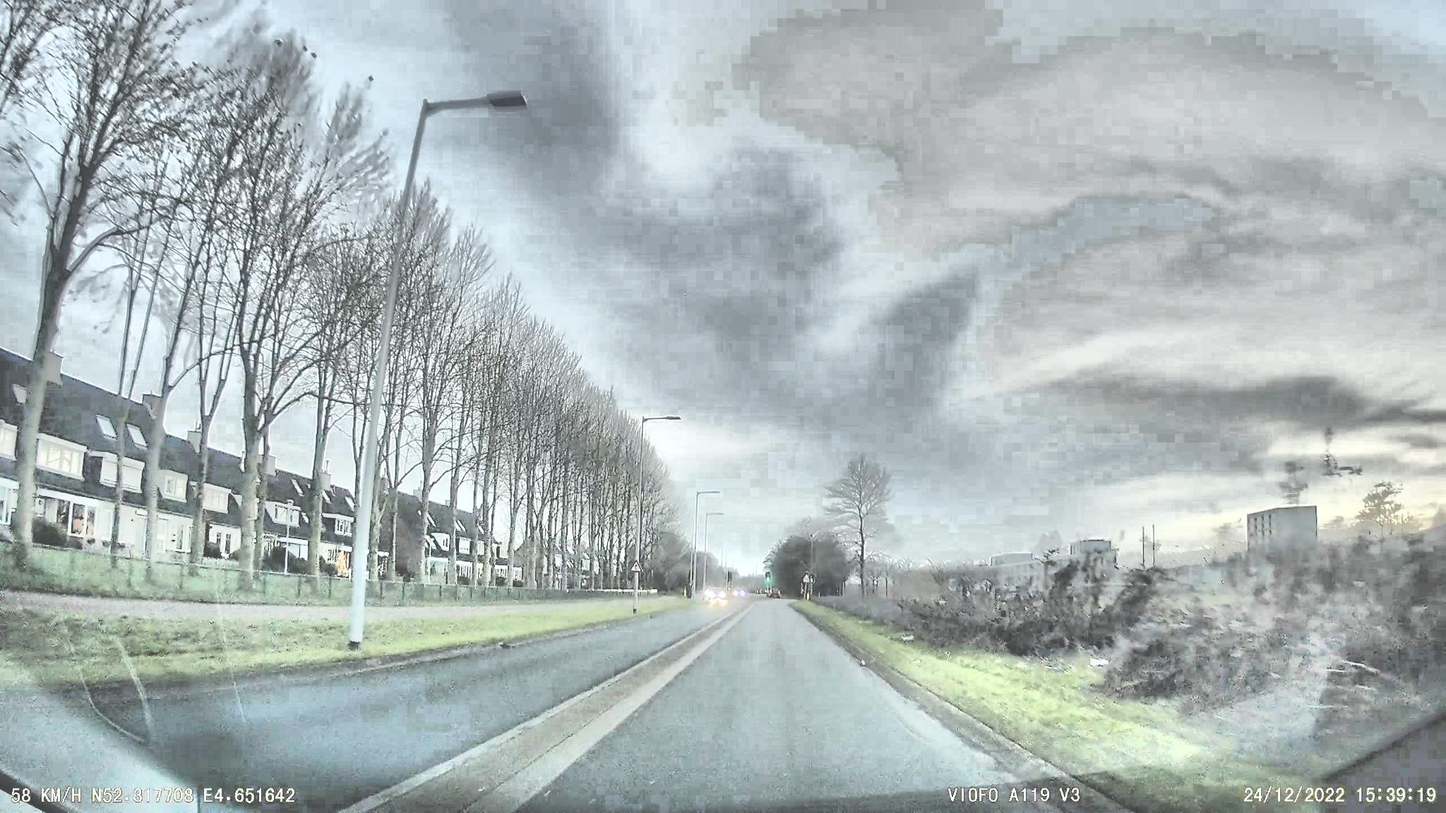Roads: (0, 601, 1134, 813)
